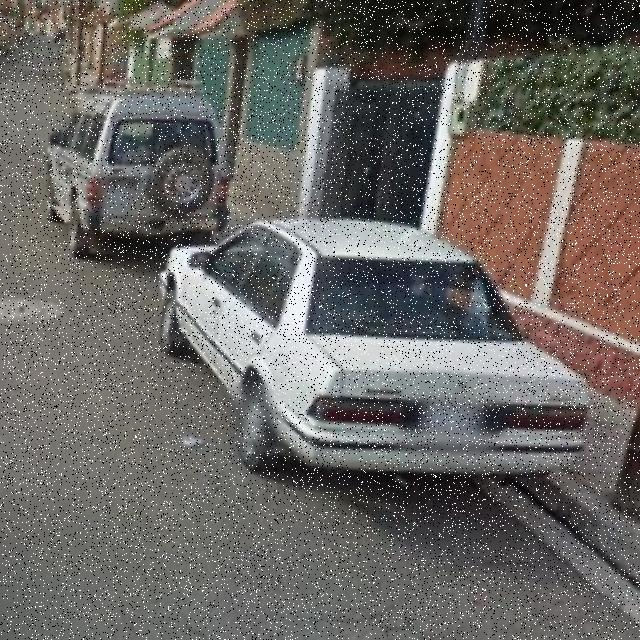cars: (157, 201, 594, 488), (41, 74, 230, 246)
